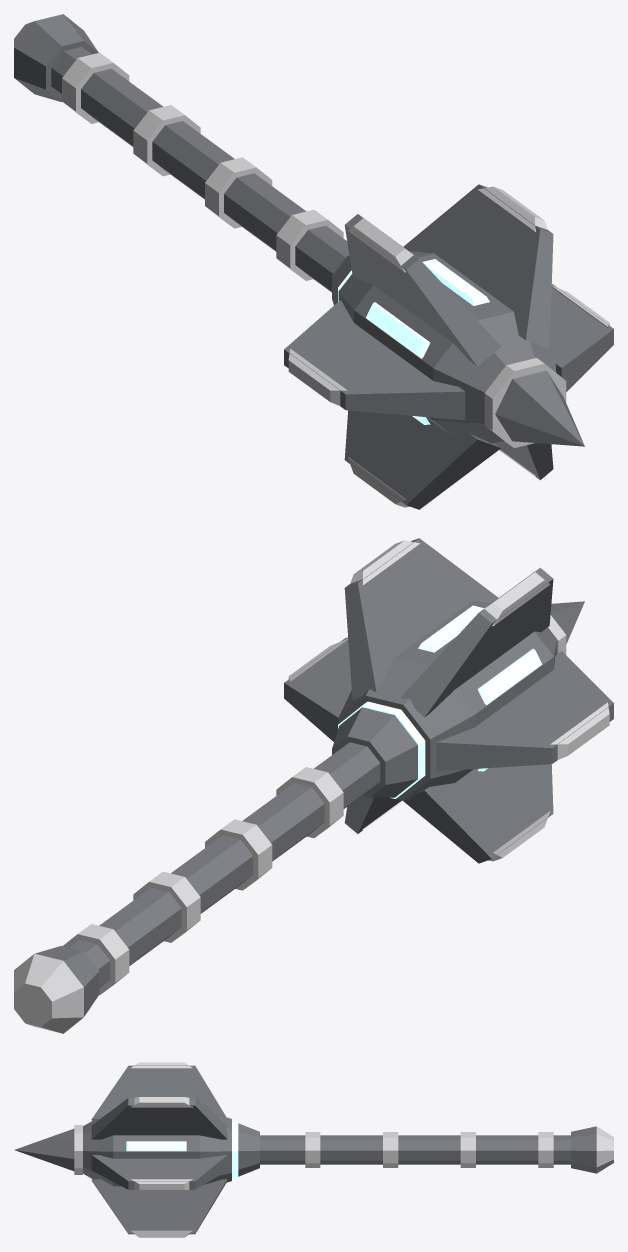
Rendered from mace.glb.
3 views of the same model, one above another, from view 1: azimuth 30°, elevation 25°; view 2: azimuth 150°, elevation 25°; view 3: azimuth 270°, elevation 25° (orthographic). The views are drawn at different scales.
Parts seen in each view (by area): view 1: mace; view 2: mace; view 3: mace.
Boxes of the visible parts, x1,y1,x2,y2 form: mace: (14, 14, 613, 509); mace: (14, 538, 613, 1033); mace: (14, 1062, 613, 1237).
Size of the model in its own units: 4.06 by 3.6 by 13.9.
